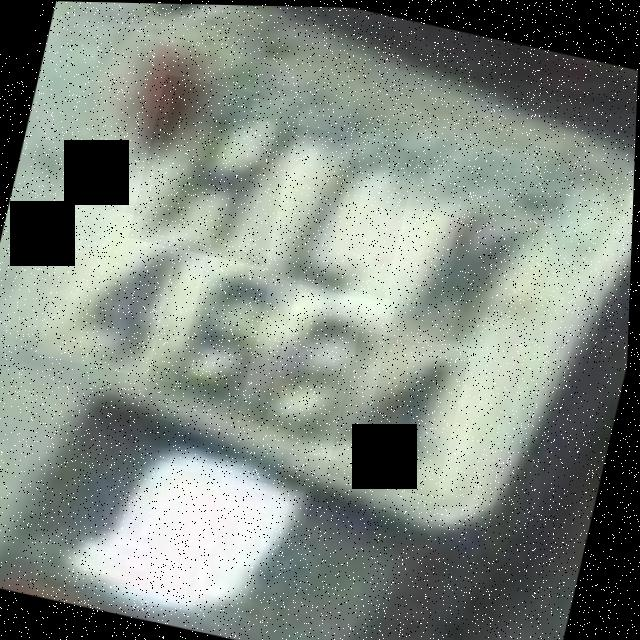4: (38, 200, 215, 384), (329, 328, 473, 497)
6: (236, 272, 399, 464), (145, 236, 305, 425)
H: (140, 84, 298, 267)
J: (254, 128, 423, 314)
N: (129, 73, 304, 267)
Z: (244, 118, 421, 301)
